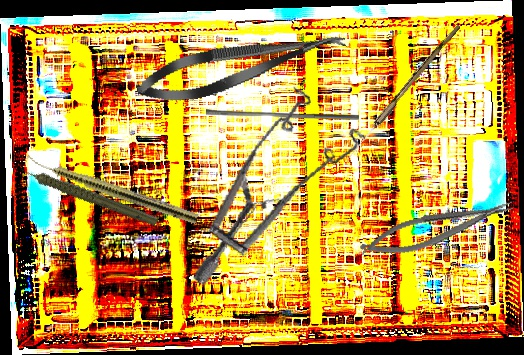Handpiece: (15, 133, 160, 253), (24, 153, 200, 225)
Micro Scissor: (131, 17, 351, 113)
Needle Holder: (356, 194, 518, 264)
Pusher: (206, 109, 359, 120)
Speculum: (191, 73, 374, 312)
Surgical Spoon: (345, 21, 461, 163)
